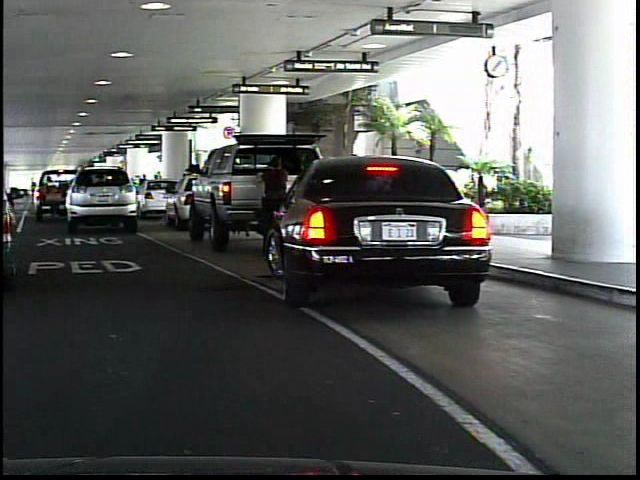person: (251, 150, 301, 254)
